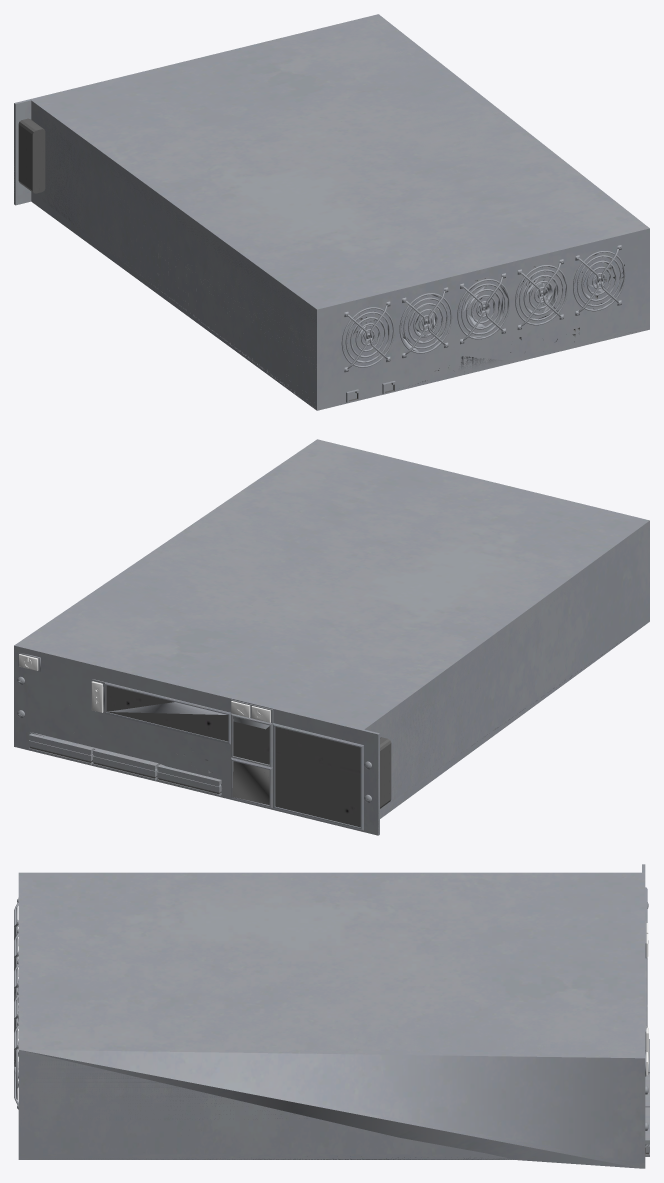
Rendered from Server.GPU.3u.glb.
The picture shows the model from 3 angles, top to bottom: view 1: azimuth 30°, elevation 25°; view 2: azimuth 150°, elevation 25°; view 3: azimuth 270°, elevation 25°; orthographic projection. The views are drawn at different scales.
Visible parts, largest first — view 1: Server.Green1; view 2: Server.Green1; view 3: Server.Green1.
Boxes of the visible parts, x1,y1,x2,y2 form: Server.Green1: [14, 14, 649, 410]; Server.Green1: [14, 439, 649, 835]; Server.Green1: [14, 864, 649, 1168].
Size of what is drawn, in the model's own units: 0.497 by 0.1319 by 0.6886.
Materials: 6 (3 with a texture image).
